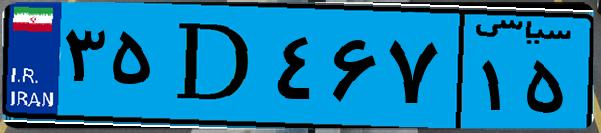1: (475, 38, 525, 113)
3: (57, 26, 110, 100)
4: (270, 28, 330, 110)
5: (525, 38, 570, 115), (110, 28, 158, 98)
6: (330, 28, 385, 110)
7: (385, 28, 445, 110)
D: (158, 12, 270, 120)
